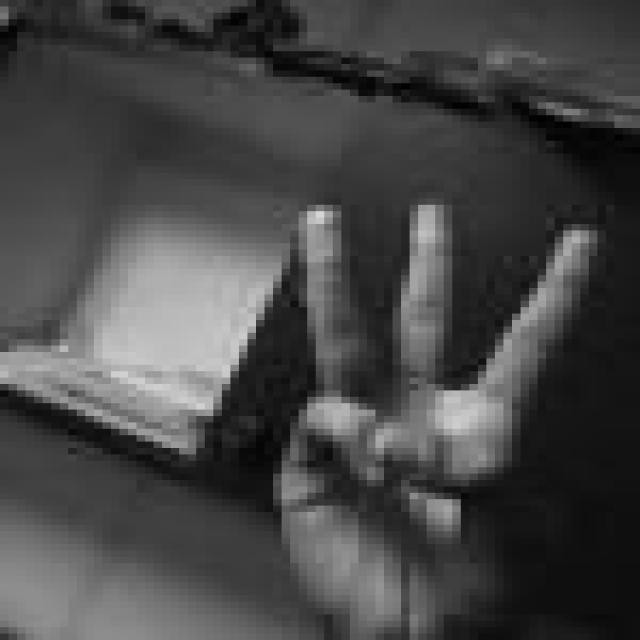W: (273, 195, 606, 624)
